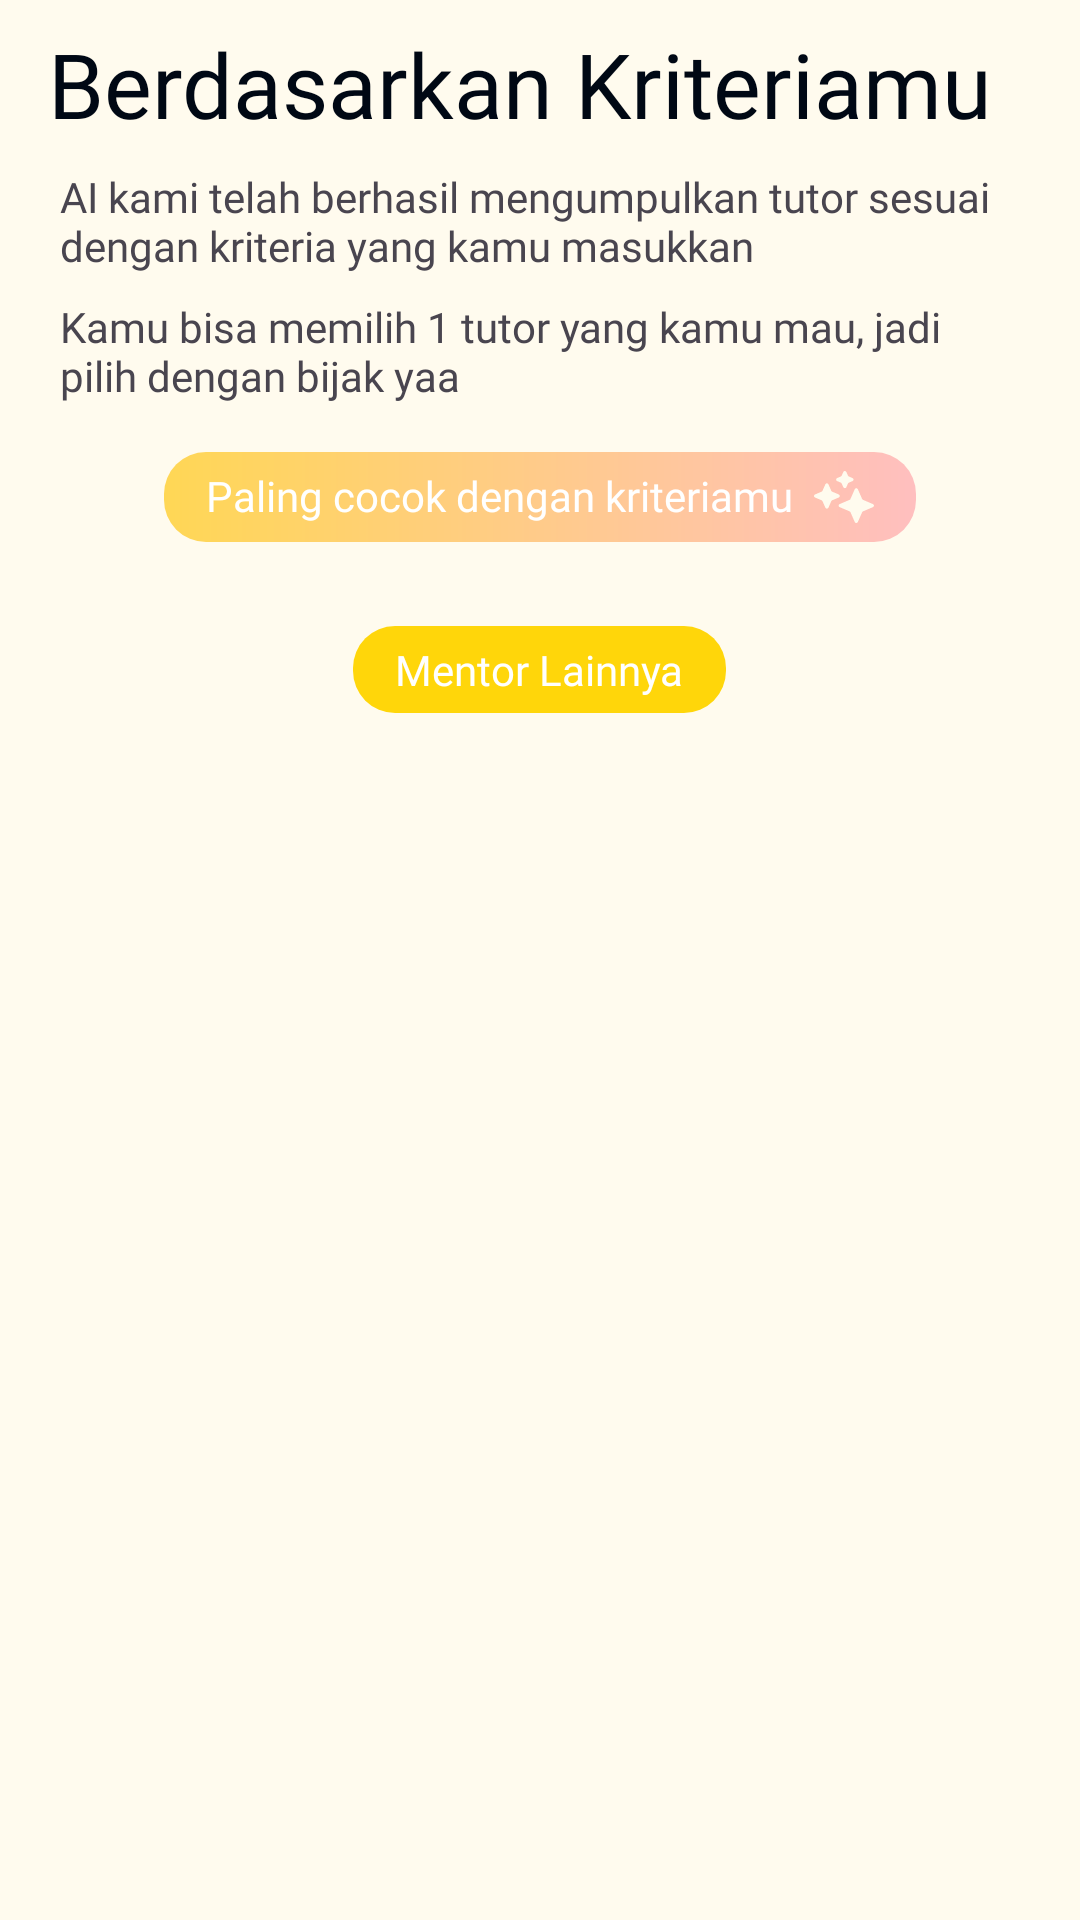

Icons on this 1080x1920 Android screen, each with its box as (x1, y1, x2, y2):
icon stars: (814, 471, 874, 523)
